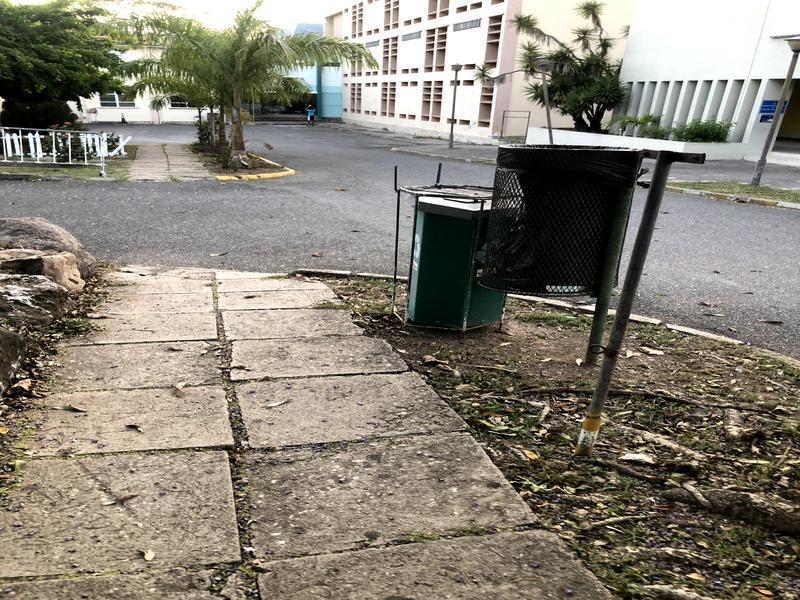18.0053245_-76.7486424_recyclebin: (377, 173, 513, 354)
